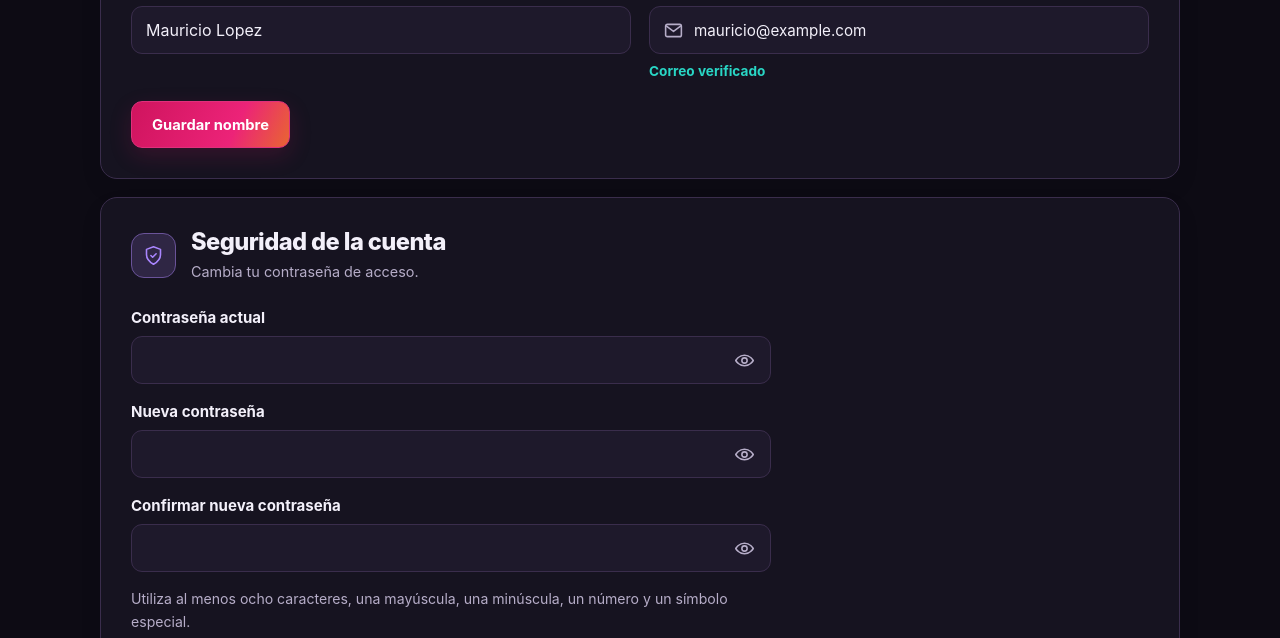
Scenario: Perfil de MateCode › cambia la contraseña y limpia los campos
(page scrolled)
In the password field labelled "Contraseña actual": (451, 360) [131,336,771,384], type "Actual123!"
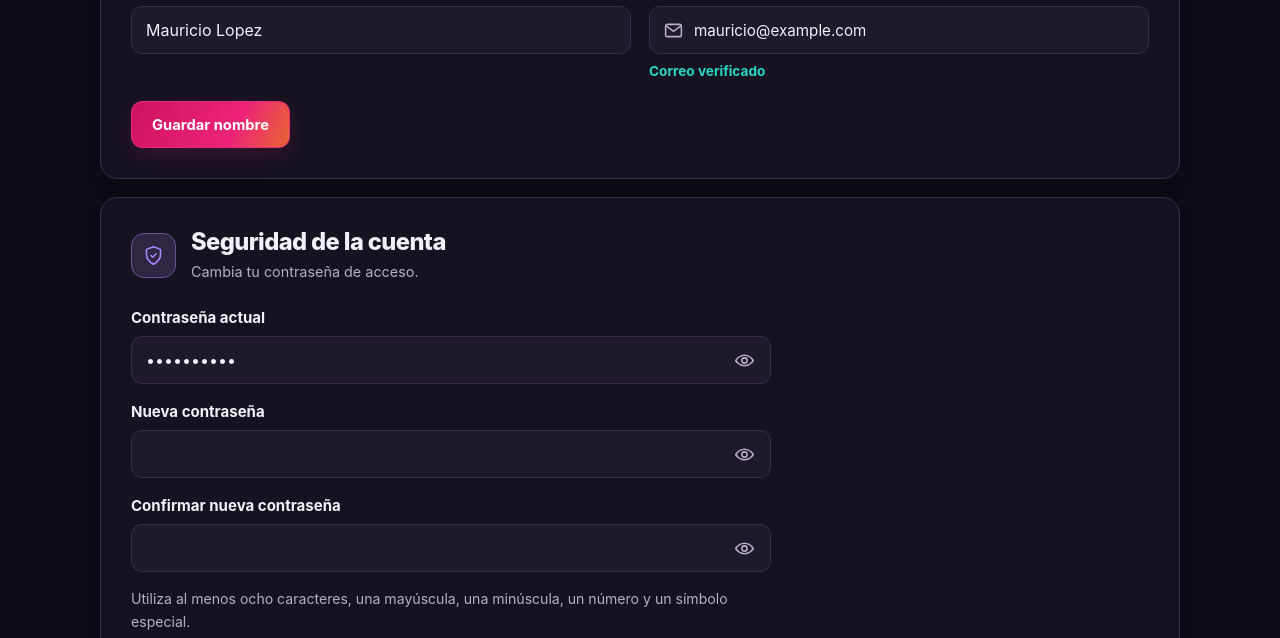
In the password field labelled "Nueva contraseña": (451, 454) [131,430,771,478], type "Nueva123!"
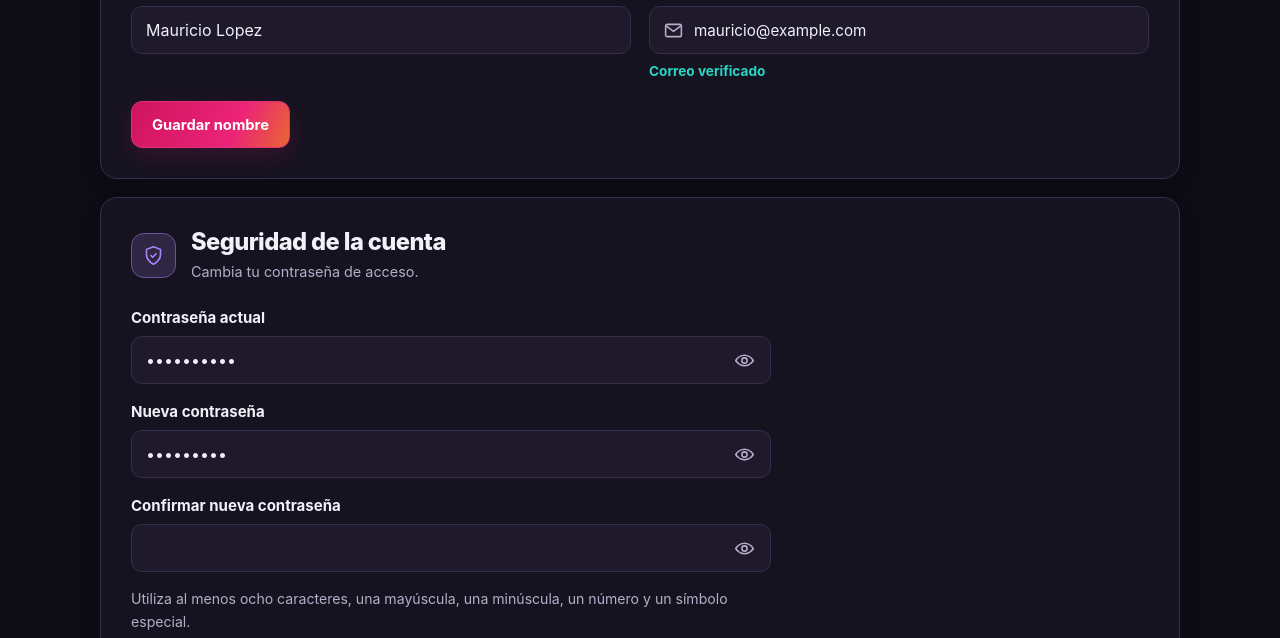
In the password field labelled "Confirmar nueva contraseña": (451, 548) [131,524,771,572], type "Nueva123!"
(page scrolled)
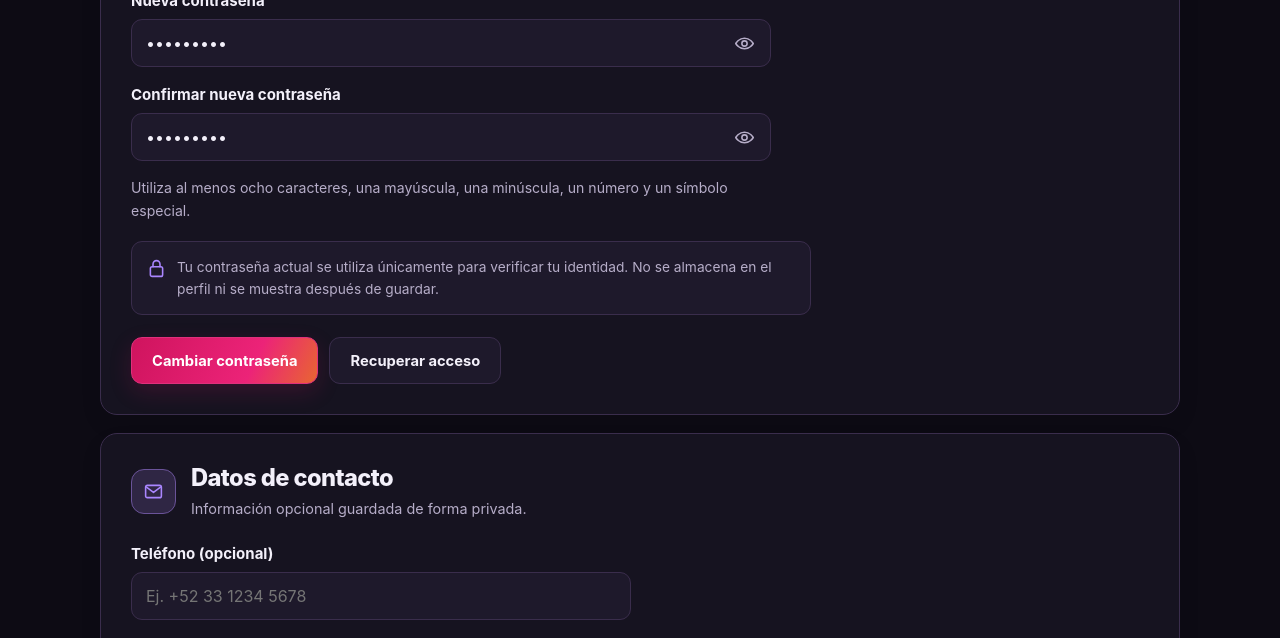
Click the button "Cambiar contraseña": (225, 361) [131,337,318,384]
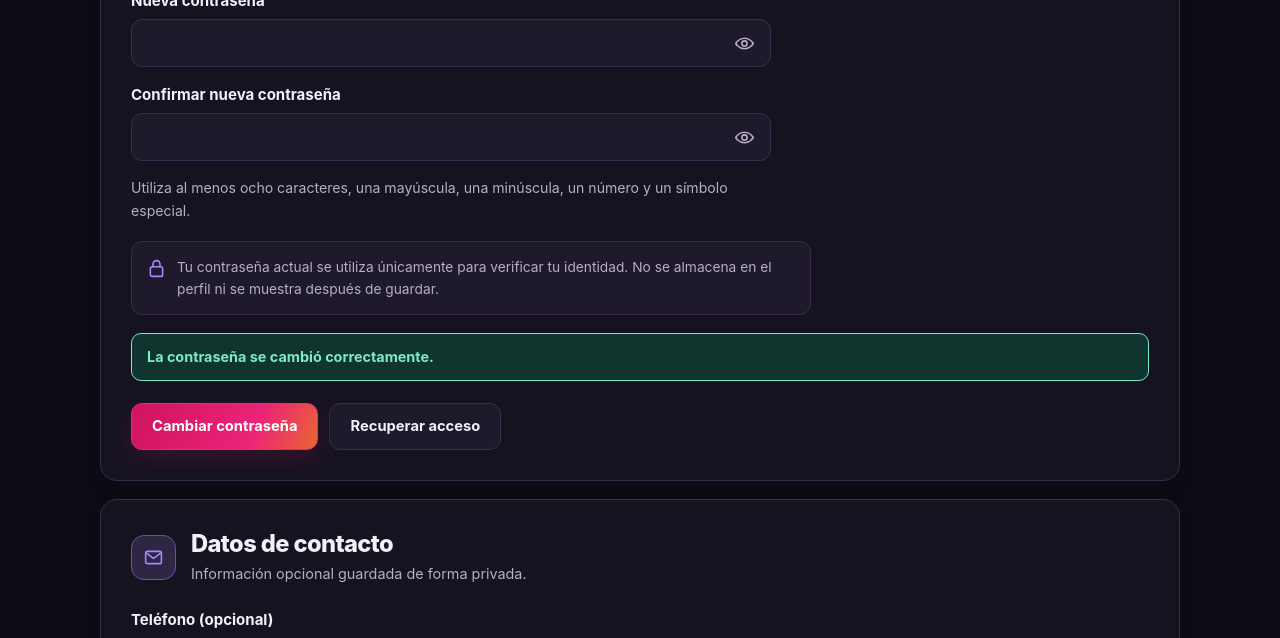
Now the text "La contraseña se cambió correctamente." is shown, box [131,333,1149,381]
Now the password field labelled "Nueva contraseña" is empty, box [131,19,771,67]
Now the password field labelled "Confirmar nueva contraseña" is empty, box [131,113,771,161]
